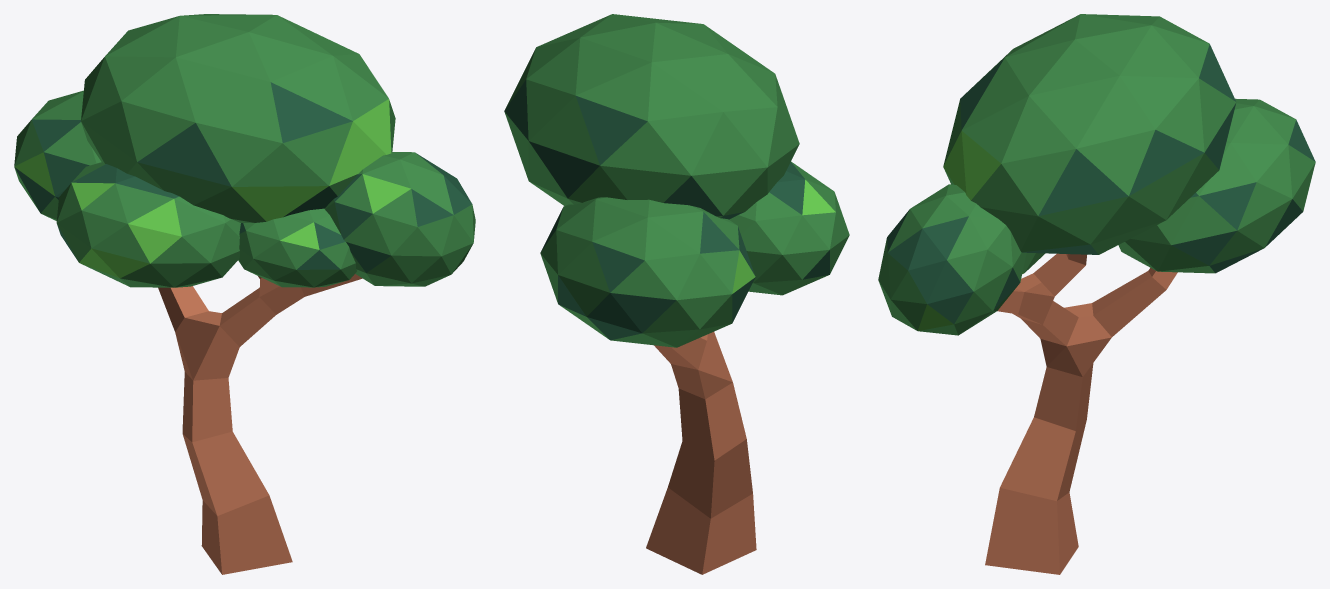
Rendered from Tree_01.fbx.
3 renders of one model, left to right at view 1: azimuth 30°, elevation 25°; view 2: azimuth 150°, elevation 25°; view 3: azimuth 270°, elevation 25°, orthographic. The views are drawn at different scales.
Visible parts, largest first — view 1: Tree_01; view 2: Tree_01; view 3: Tree_01.
Part boxes in pixels (left/top/right/bottom): Tree_01: left=14, top=14, right=475, bottom=574; Tree_01: left=504, top=14, right=849, bottom=574; Tree_01: left=878, top=14, right=1315, bottom=574.
Size of the model in its own units: 417 by 602 by 450.
